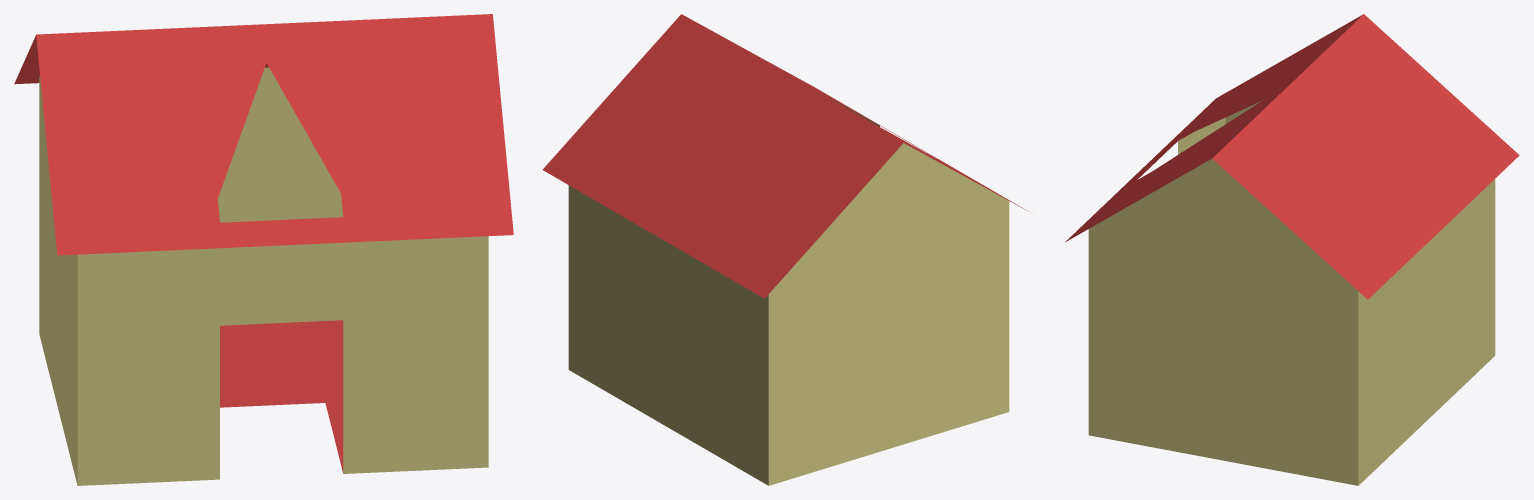
The picture shows the model from 3 angles, left to right: view 1: azimuth 30°, elevation 25°; view 2: azimuth 150°, elevation 25°; view 3: azimuth 270°, elevation 25°; orthographic projection. The views are drawn at different scales.
Size of the model in its own units: 19.21 by 18.35 by 13.72.
